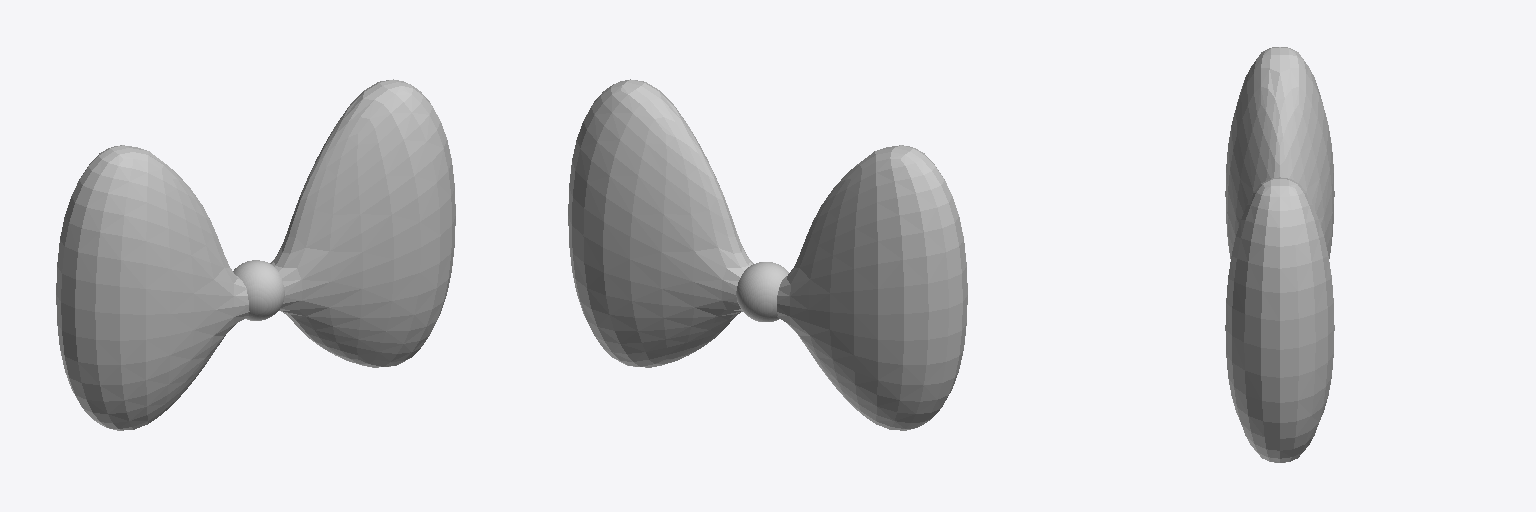
File: bow.obj
3 views of the same model, side by side, from view 1: azimuth 30°, elevation 25°; view 2: azimuth 150°, elevation 25°; view 3: azimuth 270°, elevation 25° (orthographic).
Size of the model in its own units: 10.62 by 7.25 by 2.57.